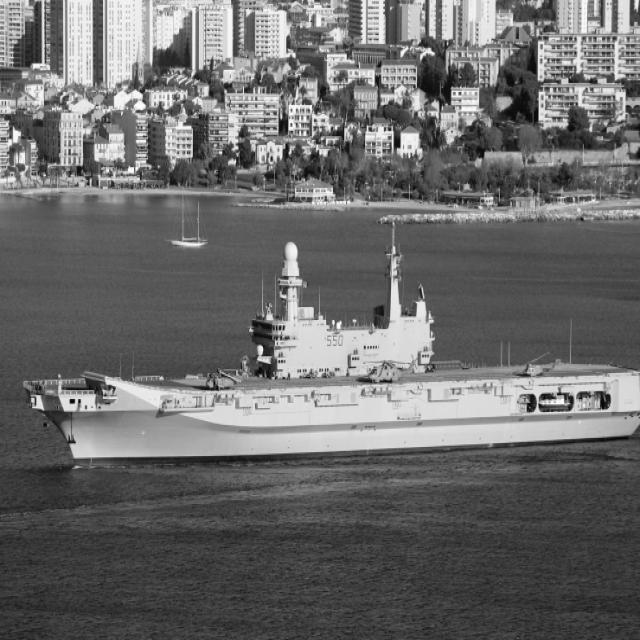Portanaves: (23, 220, 640, 475)
